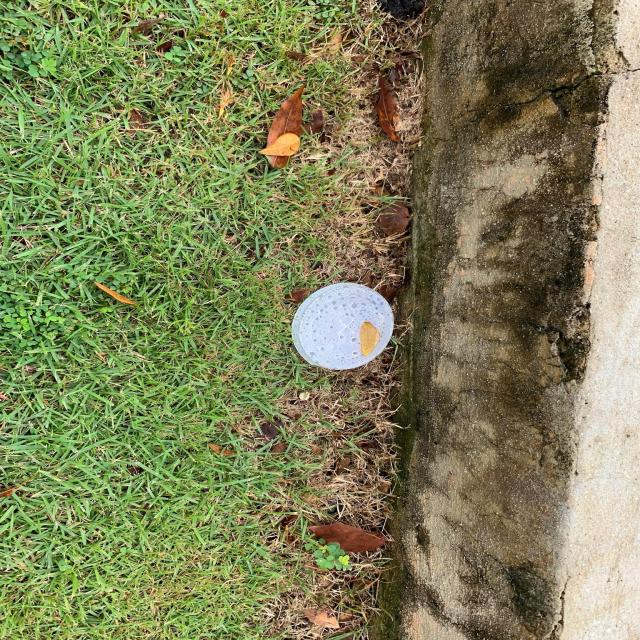litter: (292, 284, 395, 370)
